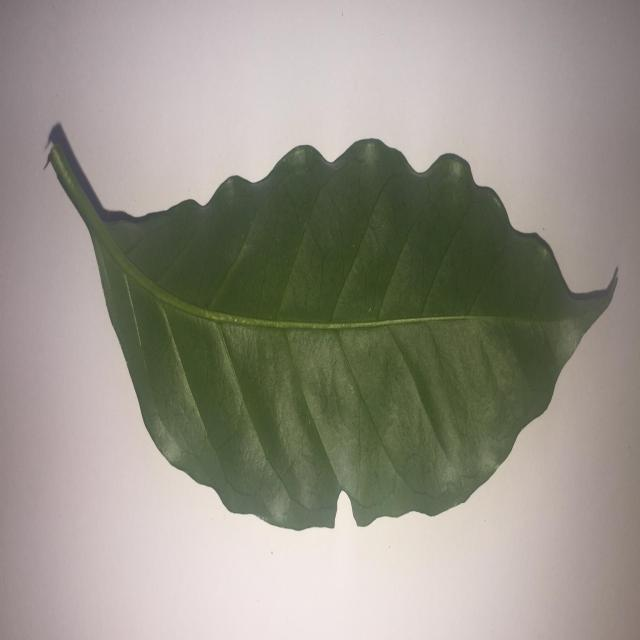nodisease: (47, 124, 617, 530)
